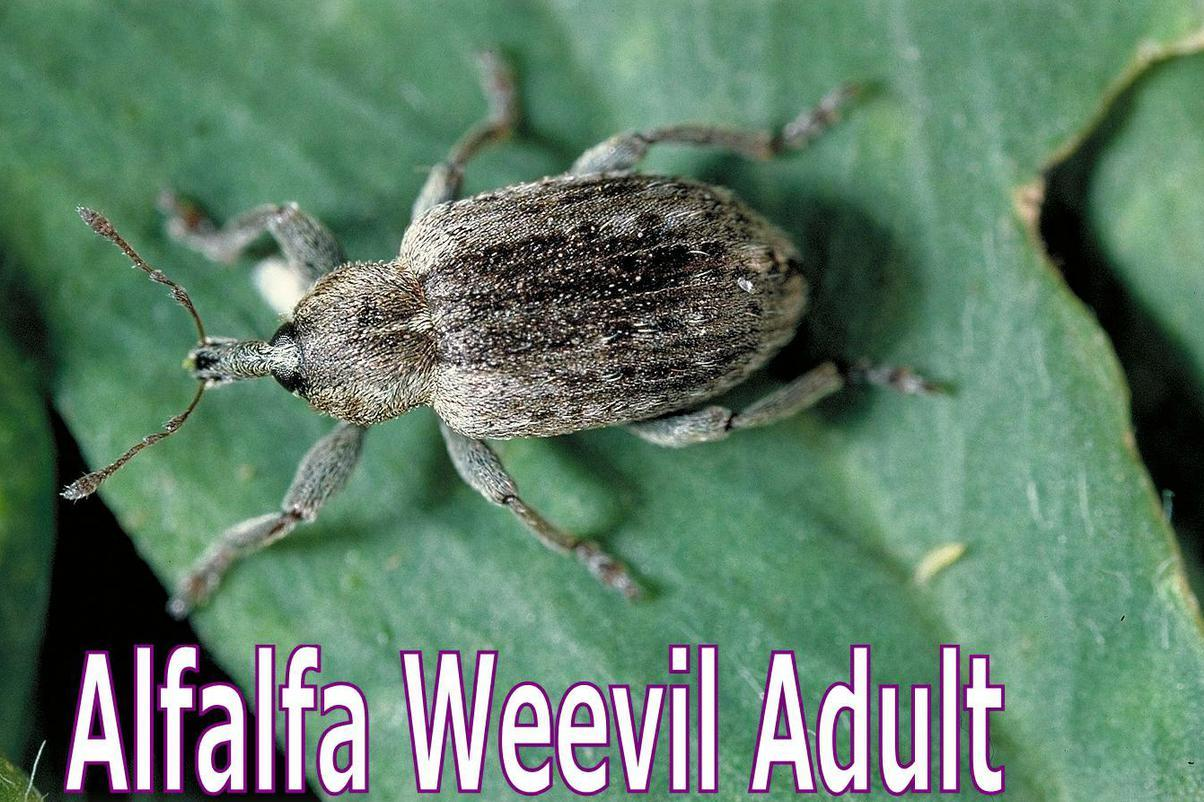weevils: (16, 18, 979, 640)
